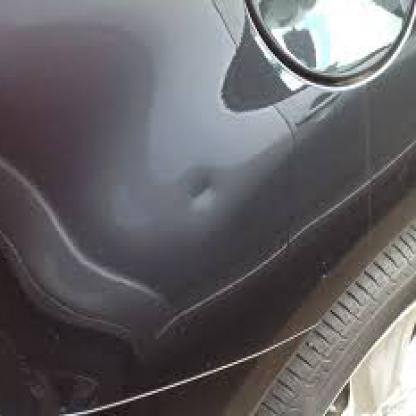dent: (170, 163, 232, 209)
